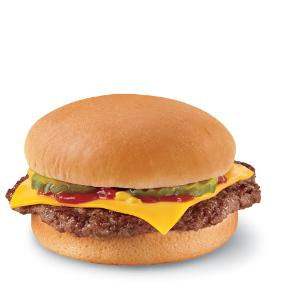cheeseburger_475cal: (6, 94, 279, 273)
